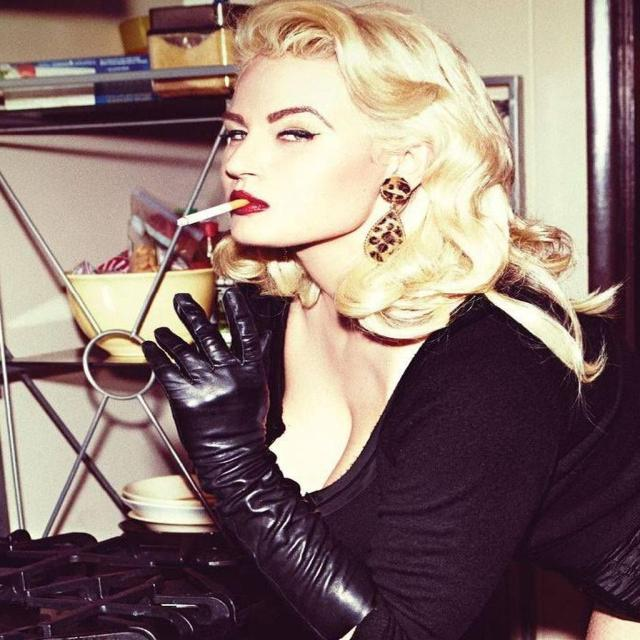smoking: (155, 19, 519, 281)
